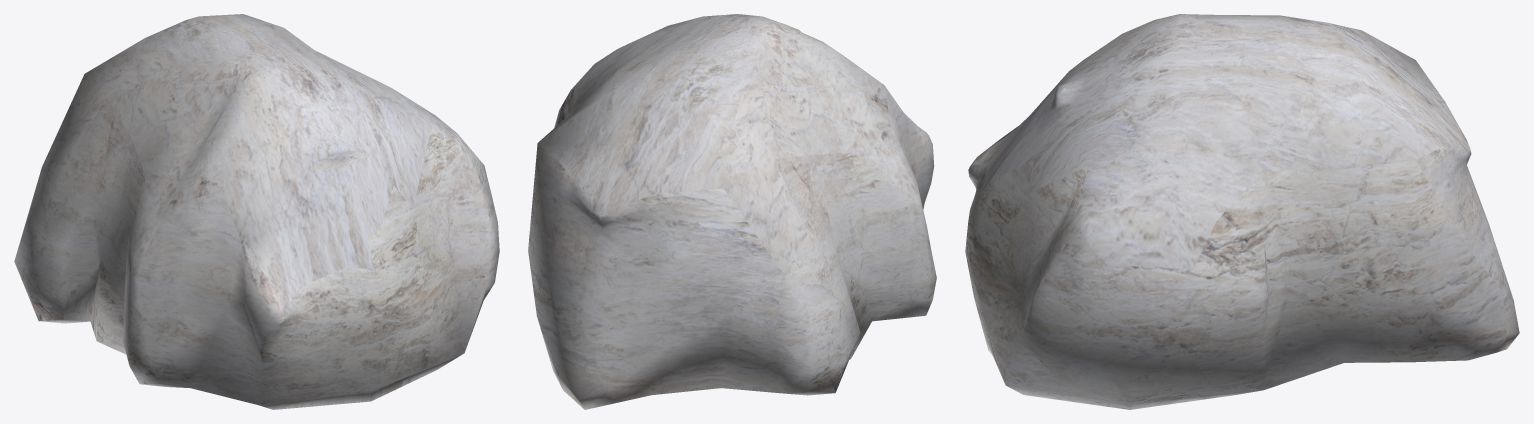
Rendered from Rock no cover.fbx.
3 views of the same model, side by side, from view 1: azimuth 30°, elevation 25°; view 2: azimuth 150°, elevation 25°; view 3: azimuth 270°, elevation 25° (orthographic). The views are drawn at different scales.
Visible parts, largest first — view 1: Rock; view 2: Rock; view 3: Rock.
Boxes of the visible parts, x1,y1,x2,y2 form: Rock: (14, 14, 499, 409); Rock: (528, 14, 936, 409); Rock: (965, 14, 1519, 409).
Bounding box in the file's own units: 1.64 × 1.25 × 1.96.
1 material, 1 textured.
